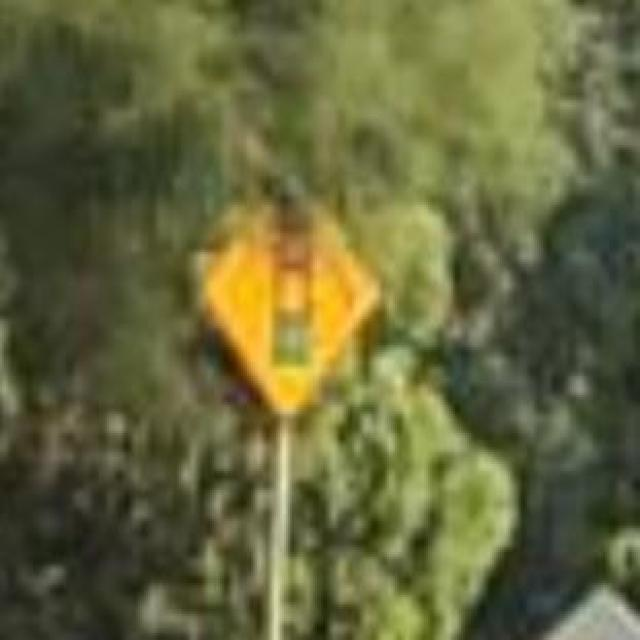traffic sign: (206, 193, 383, 414)
